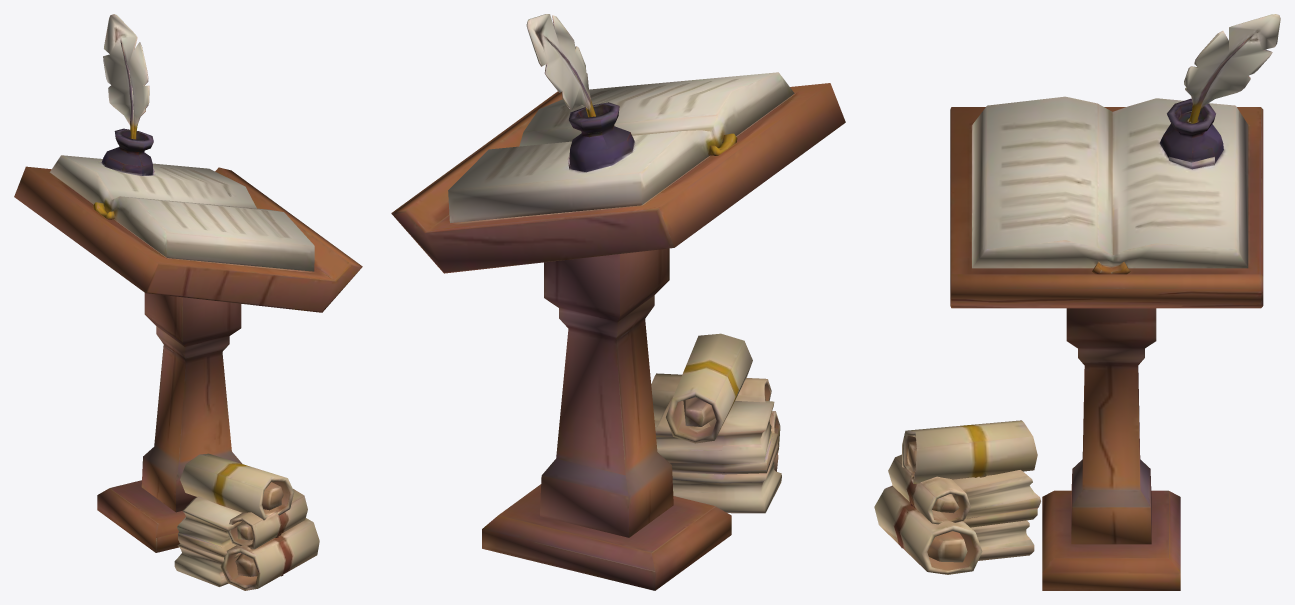
File: inscription_lectern.glb
The picture shows the model from 3 angles, left to right: view 1: azimuth 30°, elevation 25°; view 2: azimuth 150°, elevation 25°; view 3: azimuth 270°, elevation 25°; orthographic projection. The views are drawn at different scales.
Parts seen in each view (by area): view 1: tripo_node_f5b42411-e450-475b-92ef-c07794363a4c; view 2: tripo_node_f5b42411-e450-475b-92ef-c07794363a4c; view 3: tripo_node_f5b42411-e450-475b-92ef-c07794363a4c.
Part boxes in pixels (bbox=[...]): tripo_node_f5b42411-e450-475b-92ef-c07794363a4c: bbox=[14, 14, 362, 590]; tripo_node_f5b42411-e450-475b-92ef-c07794363a4c: bbox=[391, 14, 845, 590]; tripo_node_f5b42411-e450-475b-92ef-c07794363a4c: bbox=[874, 14, 1280, 590].
Size of the model in its own units: 0.5532 by 1.1 by 0.7599.
Materials: 1 (1 with a texture image).
